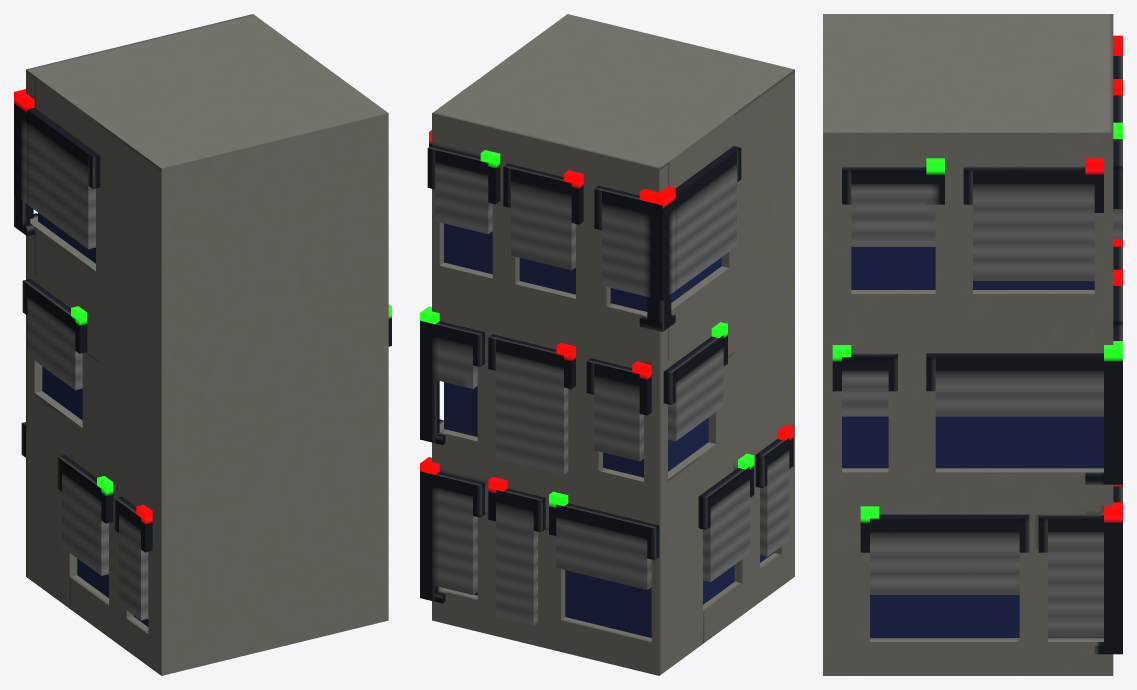
File: budynek_03_wszy_str_okna.dae
The picture shows the model from 3 angles, left to right: view 1: azimuth 30°, elevation 25°; view 2: azimuth 150°, elevation 25°; view 3: azimuth 270°, elevation 25°; orthographic projection. The views are drawn at different scales.
Visible parts, largest first — view 1: Content; view 2: Content; view 3: Content.
Boxes of the visible parts, x1,y1,x2,y2 form: Content: [14, 14, 391, 675]; Content: [420, 14, 794, 675]; Content: [823, 14, 1122, 675].
Size of the model in its own units: 32 by 64 by 32.
1 material, 1 textured.
